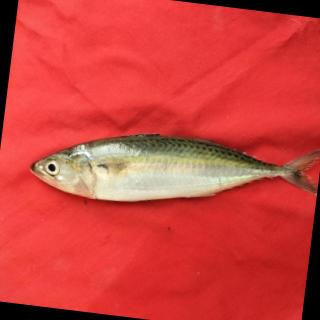Ikan: (7, 106, 320, 240)
